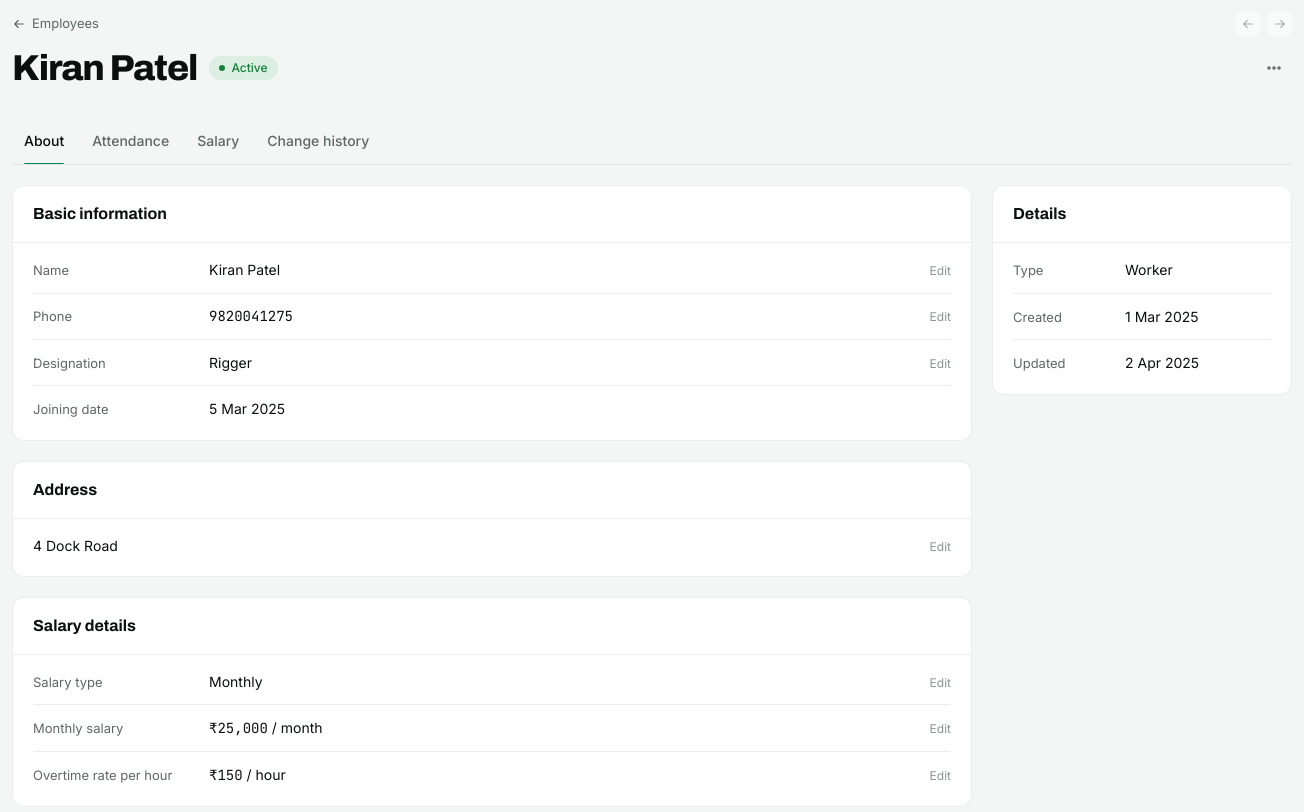
Test: EmployeeDetailPage › wraps the salary month over the year boundary
This screenshot has width=1304, height=812.
Click the tab "Salary": (218, 141) [185,118,251,164]
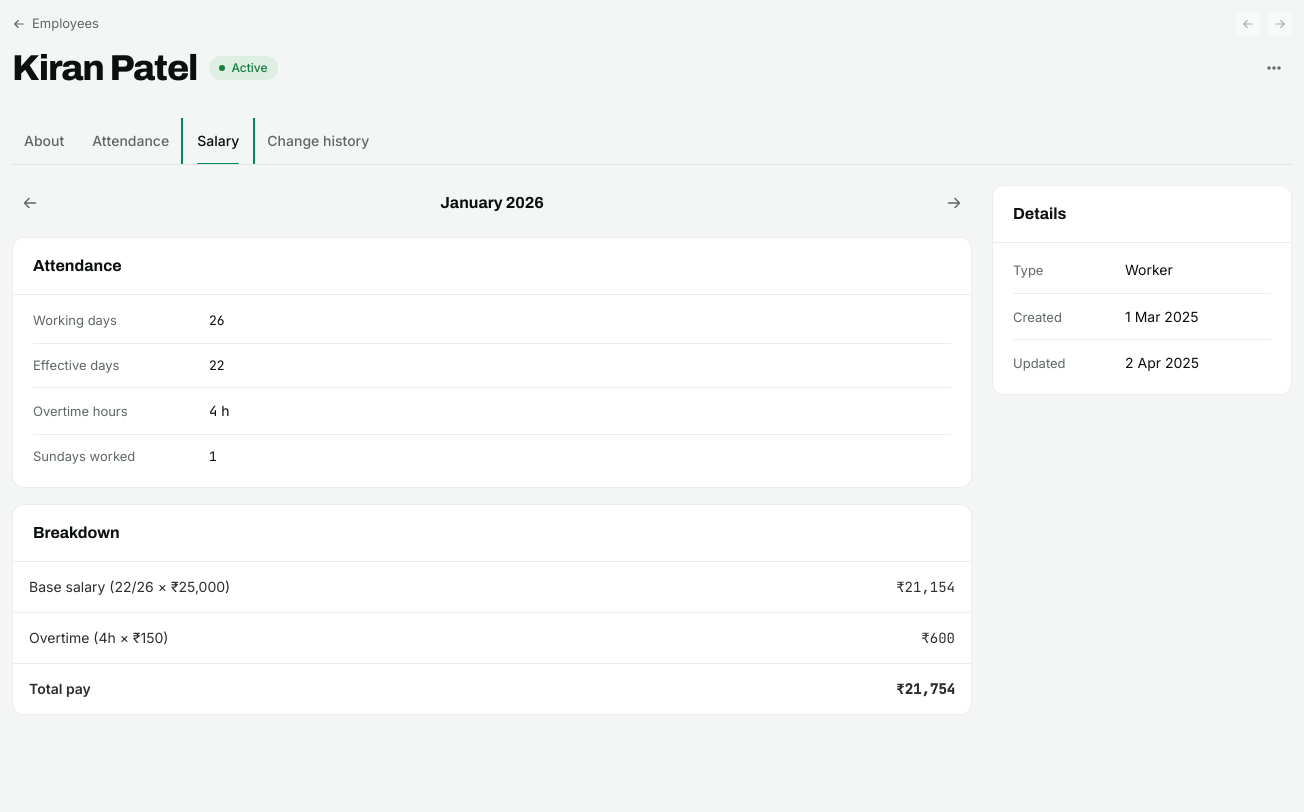
Expected: the table named "Salary breakdown" is shown, [13,562,971,714]
Click the button named "Previous month": (30, 203) [12,185,48,221]
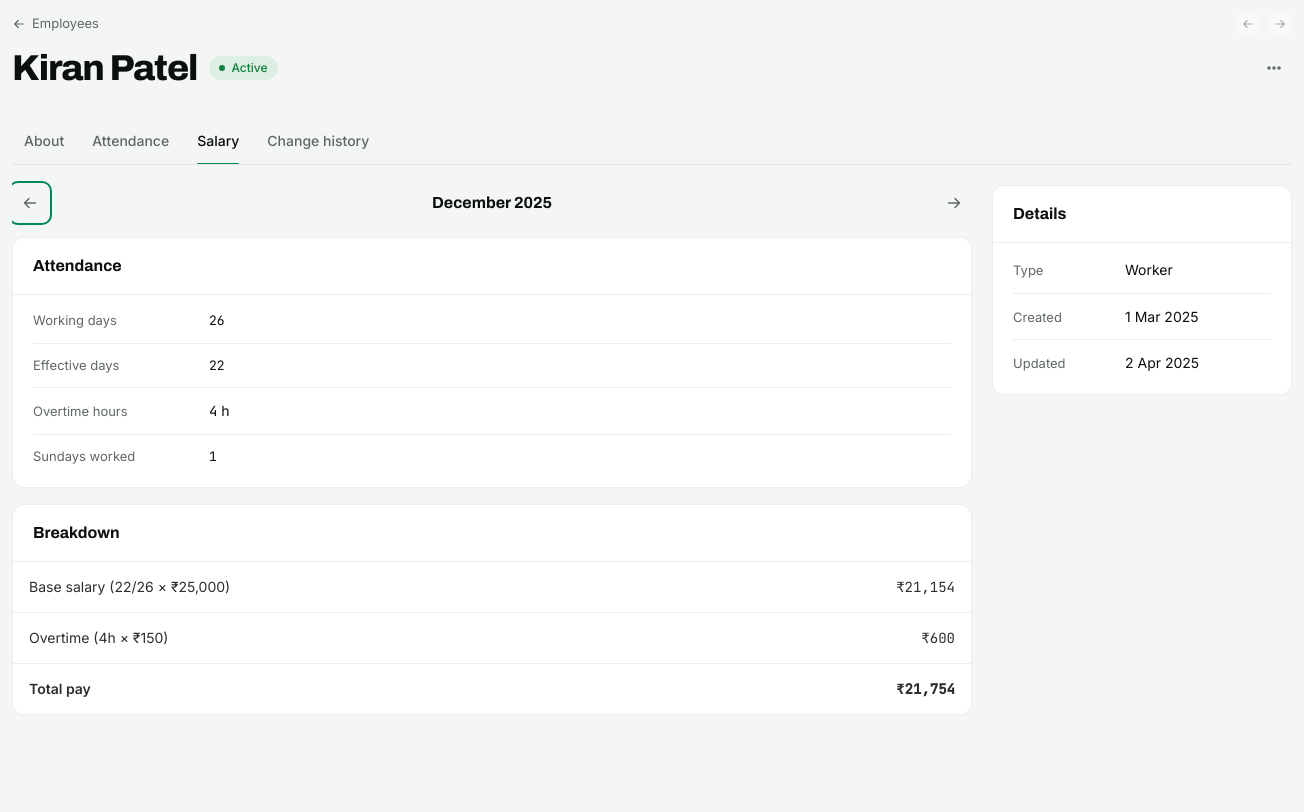
Click the button named "Next month": (954, 203) [936,185,972,221]
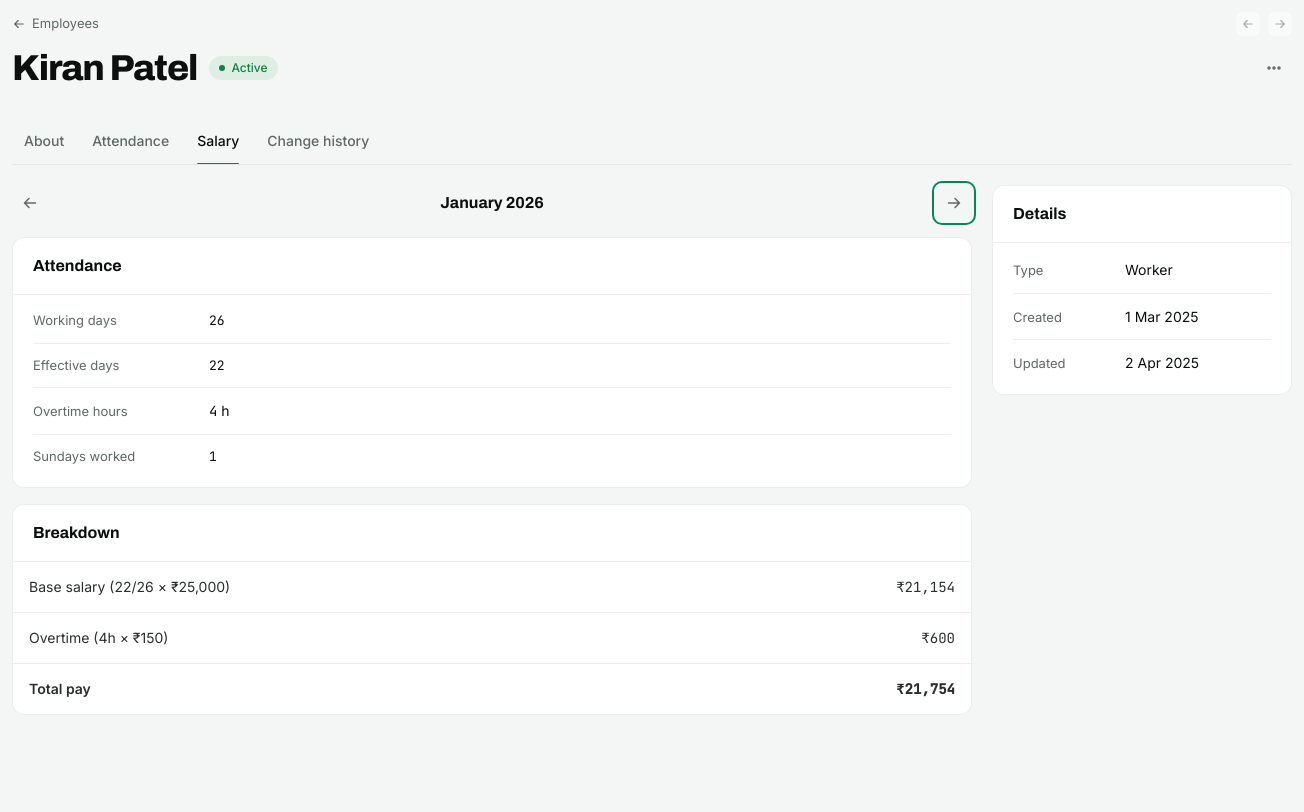
Click the button named "Next month": (954, 203) [936,185,972,221]
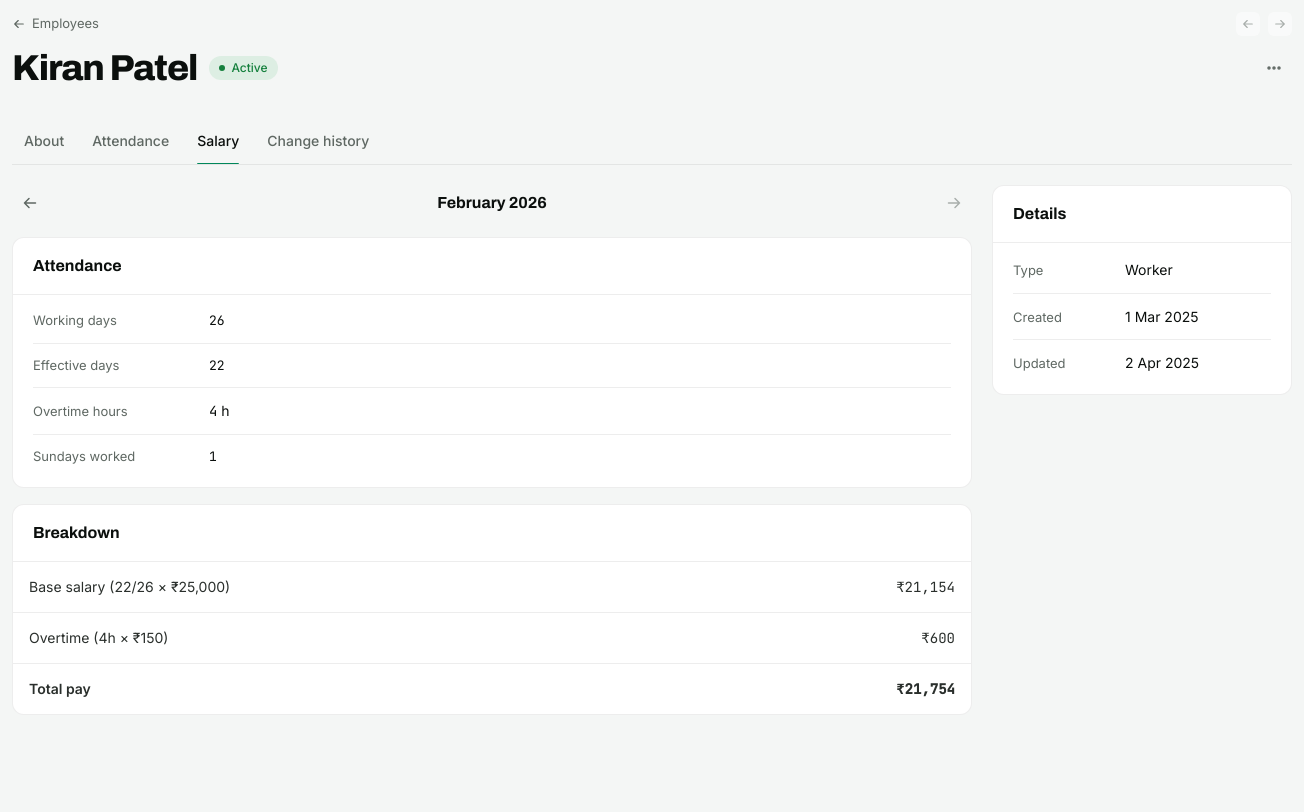
Expected: the button named "Next month" is disabled, [936,185,972,221]
